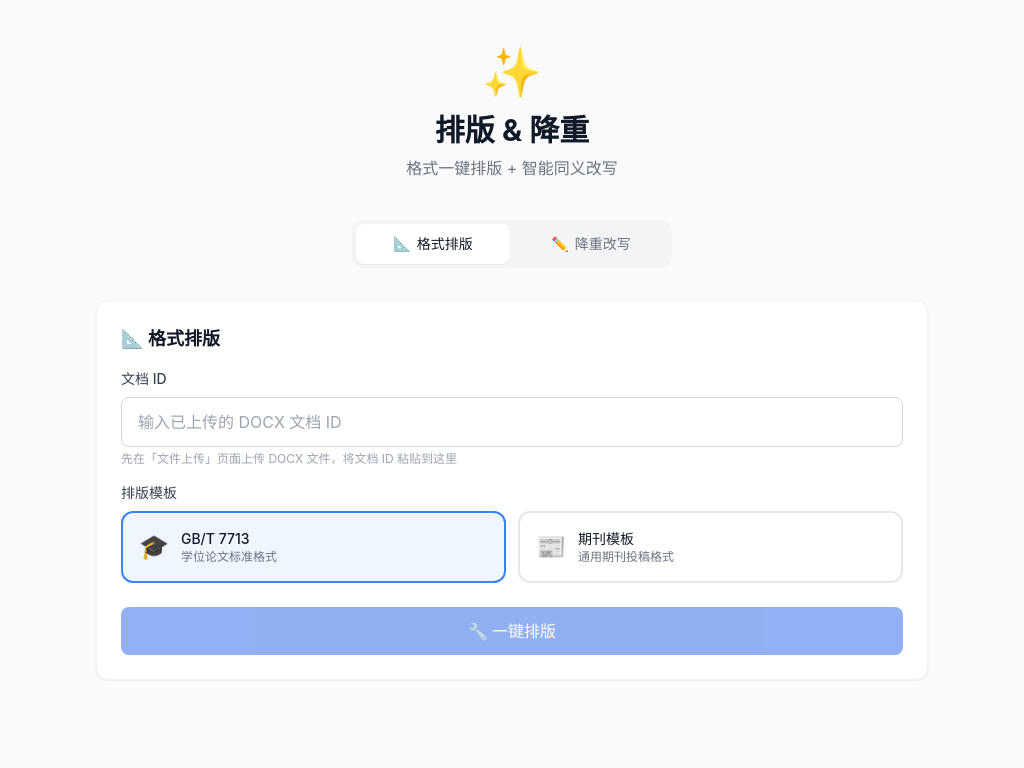
Test case: Format › has rewrite style options
Click the button "✏️降重改写" at (591, 244), box [514,224,668,264]
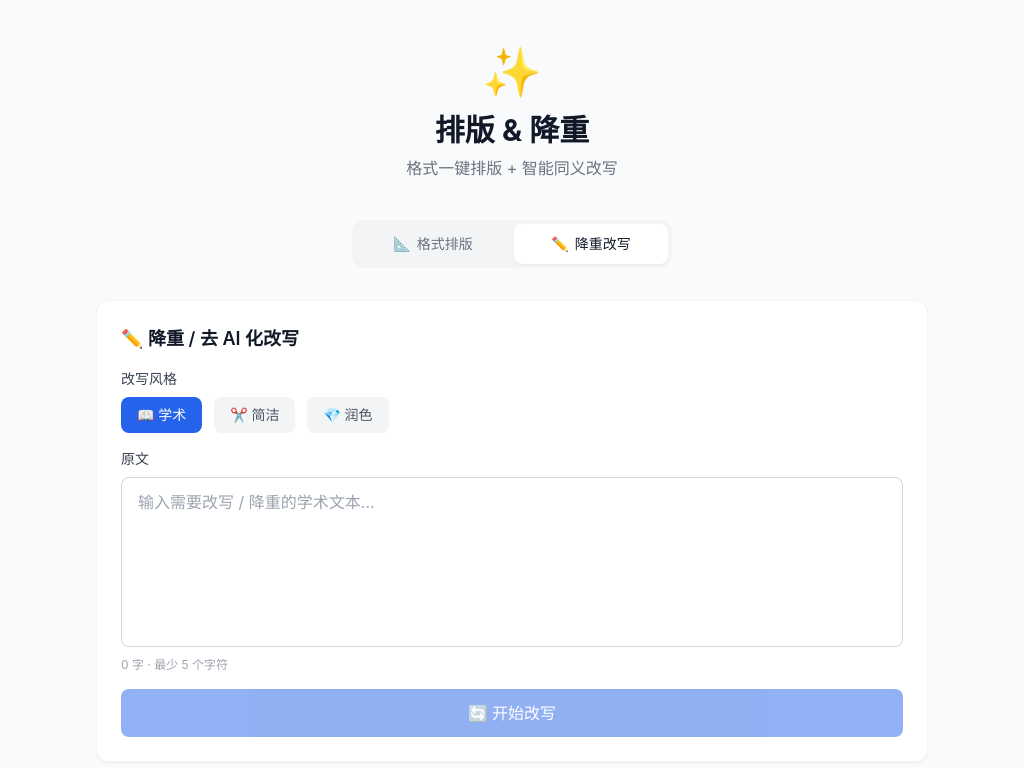
Expected: the text "学术" is shown, [121,397,202,433]
Expected: the text "简洁" is shown, [214,397,295,433]
Expected: the text "润色" is shown, [307,397,389,433]
